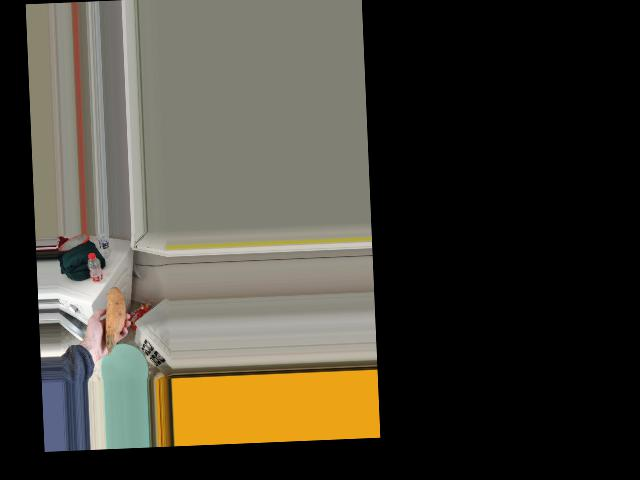sweet_potato: (101, 293, 127, 347)
